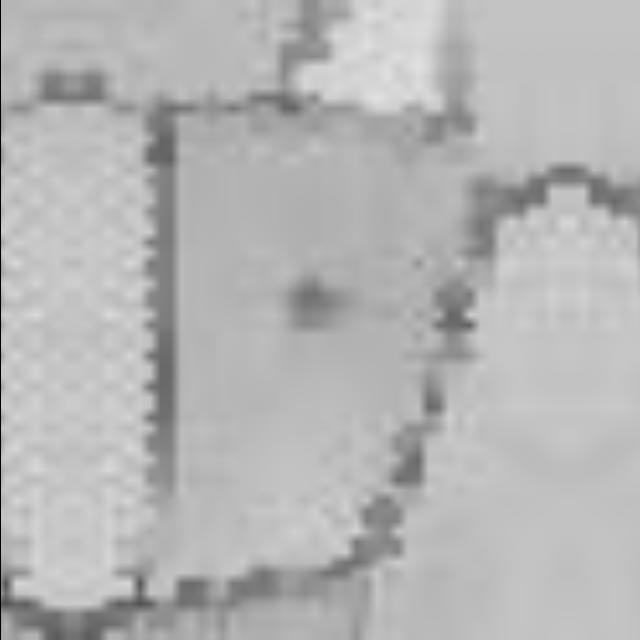good_void: (269, 268, 353, 350)
